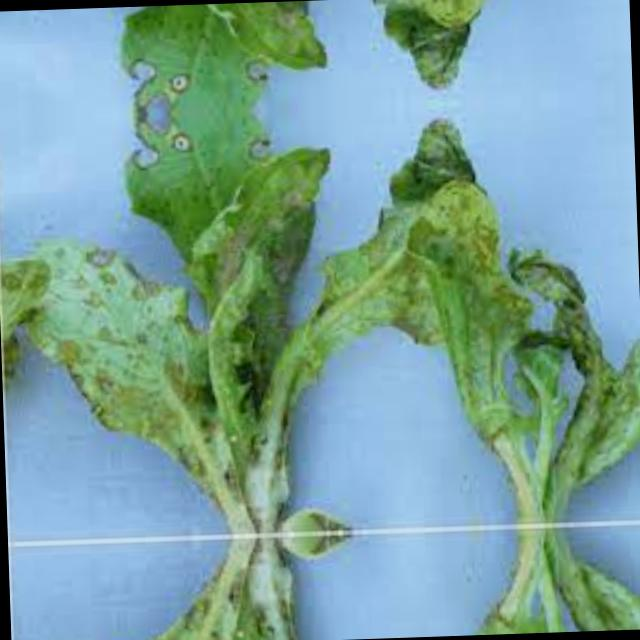Lettuce - Anthracnose: (0, 105, 387, 544), (379, 112, 640, 531), (0, 0, 373, 118), (7, 531, 391, 640), (393, 521, 640, 637), (375, 0, 632, 89)
